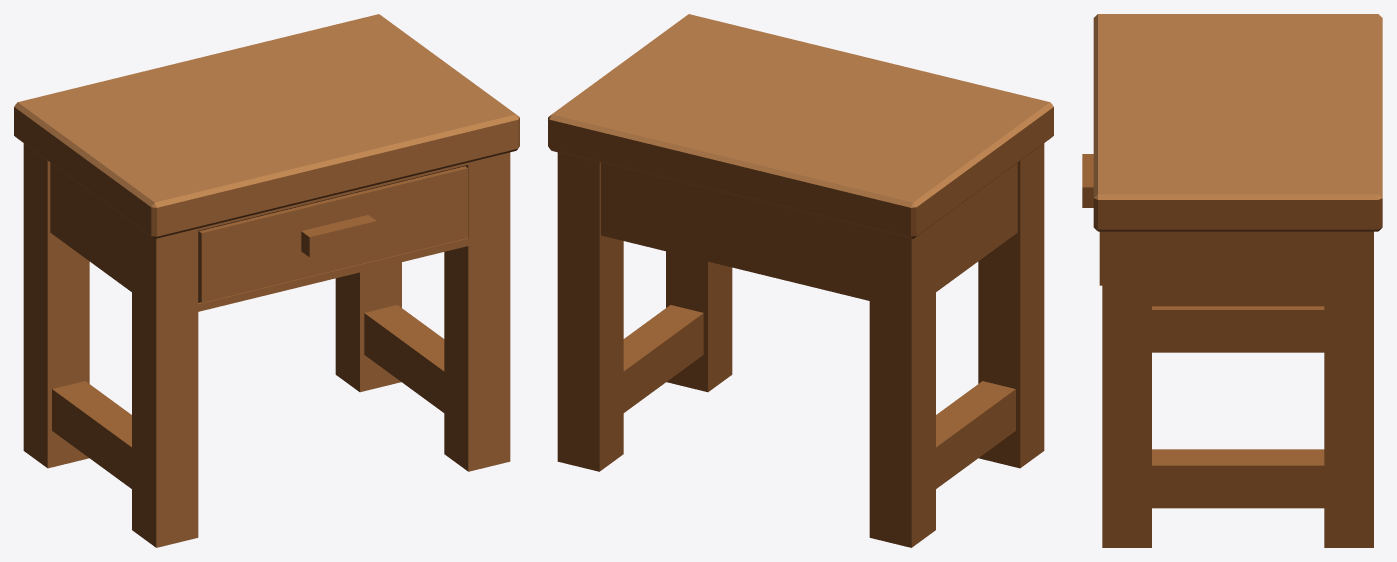
Rendered from nightstand-meshy-measured.glb.
3 renders of one model, left to right at view 1: azimuth 30°, elevation 25°; view 2: azimuth 150°, elevation 25°; view 3: azimuth 270°, elevation 25°, orthographic. The views are drawn at different scales.
Parts seen in each view (by area): view 1: TopSlab, Leg_LF, Leg_RF, Drawer_Face, Leg_LB, Apron_L, Leg_RB, Stretcher_R, Stretcher_L, Rail_Bot, Knob, Rail_Top; view 2: TopSlab, Leg_LB, Apron_B, Leg_RB, Leg_LF, Leg_RF, Apron_L, Stretcher_R, Stretcher_L; view 3: TopSlab, Leg_RB, Leg_RF, Apron_R, Stretcher_R, Stretcher_L, Knob.
Part boxes in pixels (x1=…): TopSlab: x1=14, y1=14, x2=519, y2=238; Leg_LF: x1=132, y1=222, x2=198, y2=547; Leg_RF: x1=444, y1=152, x2=510, y2=471; Drawer_Face: x1=199, y1=166, x2=467, y2=302; Leg_LB: x1=23, y1=143, x2=89, y2=468; Apron_L: x1=50, y1=163, x2=131, y2=291; Leg_RB: x1=335, y1=262, x2=401, y2=392; Stretcher_R: x1=364, y1=305, x2=444, y2=412; Stretcher_L: x1=52, y1=381, x2=131, y2=488; Rail_Bot: x1=198, y1=238, x2=468, y2=311; Knob: x1=301, y1=215, x2=376, y2=257; Rail_Top: x1=198, y1=162, x2=468, y2=230; TopSlab: x1=548, y1=14, x2=1053, y2=238; Leg_LB: x1=869, y1=222, x2=935, y2=547; Apron_B: x1=601, y1=163, x2=869, y2=300; Leg_RB: x1=557, y1=152, x2=623, y2=471; Leg_LF: x1=978, y1=143, x2=1044, y2=468; Leg_RF: x1=666, y1=251, x2=732, y2=392; Apron_L: x1=936, y1=163, x2=1017, y2=291; Stretcher_R: x1=623, y1=305, x2=703, y2=412; Stretcher_L: x1=936, y1=381, x2=1015, y2=488; TopSlab: x1=1093, y1=14, x2=1382, y2=231; Leg_RB: x1=1324, y1=231, x2=1373, y2=547; Leg_RF: x1=1102, y1=231, x2=1151, y2=547; Apron_R: x1=1152, y1=231, x2=1324, y2=306; Stretcher_R: x1=1152, y1=449, x2=1324, y2=508; Stretcher_L: x1=1152, y1=306, x2=1324, y2=352; Knob: x1=1082, y1=154, x2=1093, y2=207.
Bounding box in the file's own units: 0.61 × 0.55 × 0.4209.
